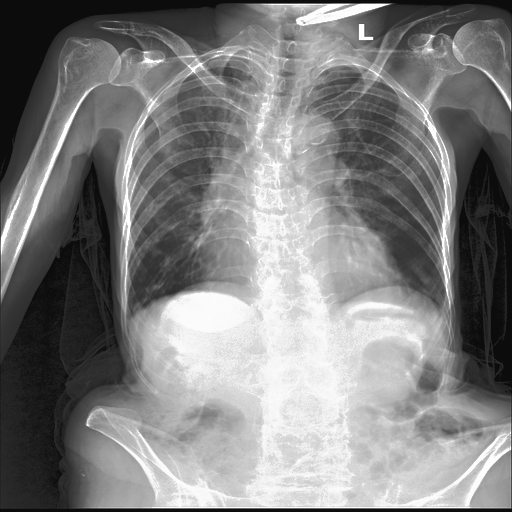Calcification: (119, 300, 138, 332)
Consolidation: (283, 113, 337, 163)
Nodule/Mass: (186, 225, 398, 290)
Pleural effusion: (119, 300, 138, 332)
Pleural thickening: (200, 153, 248, 287)
Pneumothorax: (135, 239, 204, 310)
